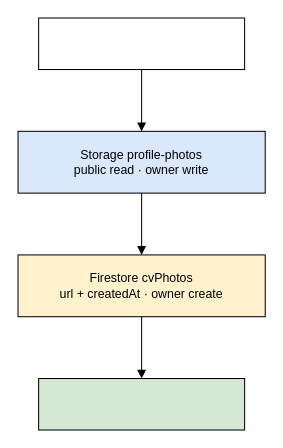
The diagram is 283 pixels wide and 448 high, and some of its shapes have lost their labels. Each missing label, with the centre of its shape:
Browser JPEG < 2MB: point (141, 43)
Public CV reads the URL: point (141, 403)
